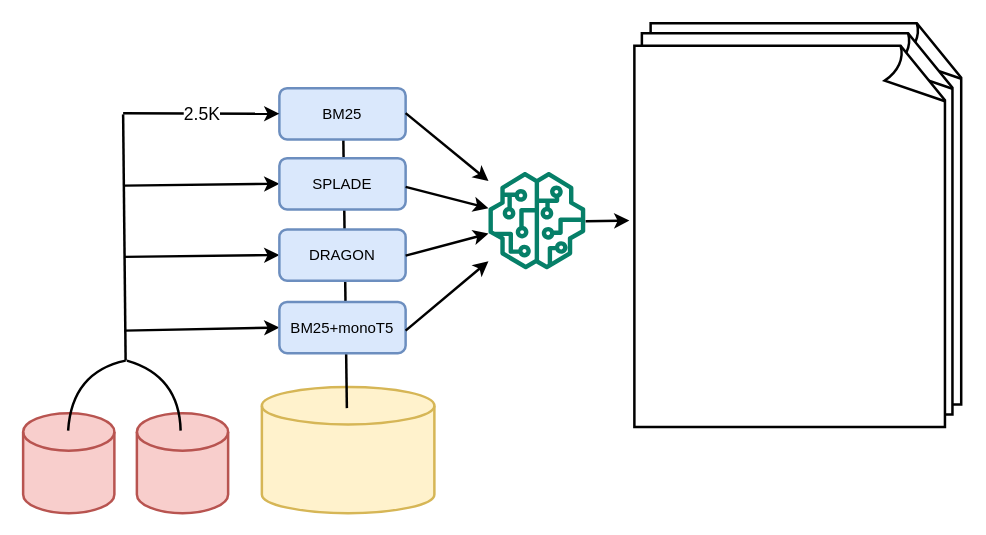
Some shapes in this 986 by 535 pixel diagram are drawn without their labels. Here are the shapes that lost their labels. From the top down, the centre of each, then its label:
point 536,220: LLM
point 347,449: MSMARCO CORPUS
